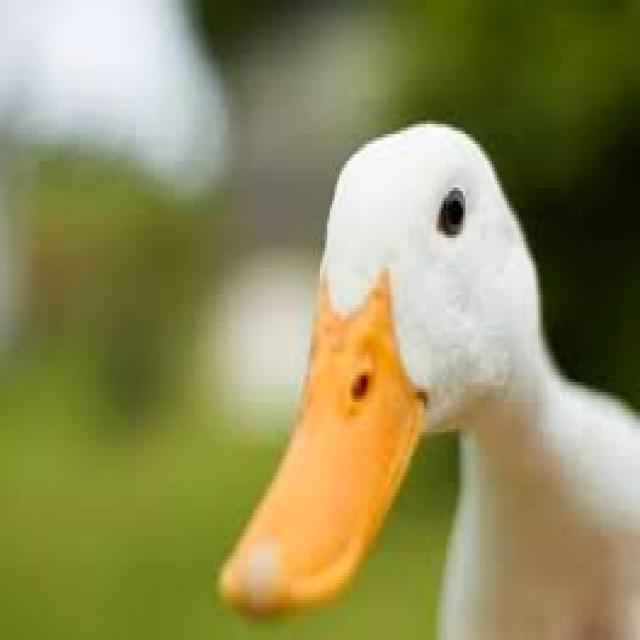duck: (223, 124, 640, 637)
